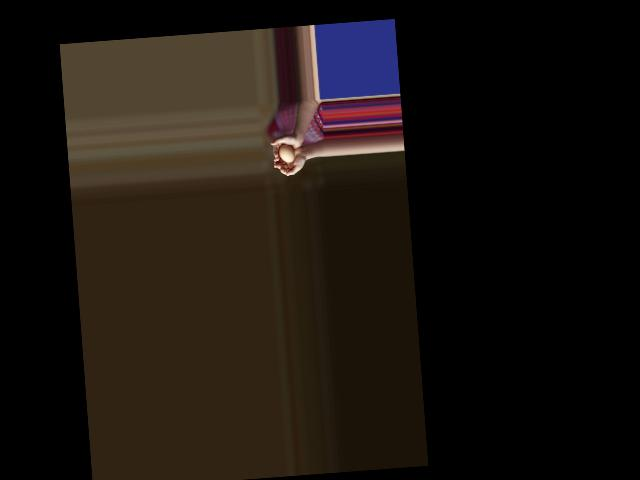egg: (277, 143, 294, 162)
